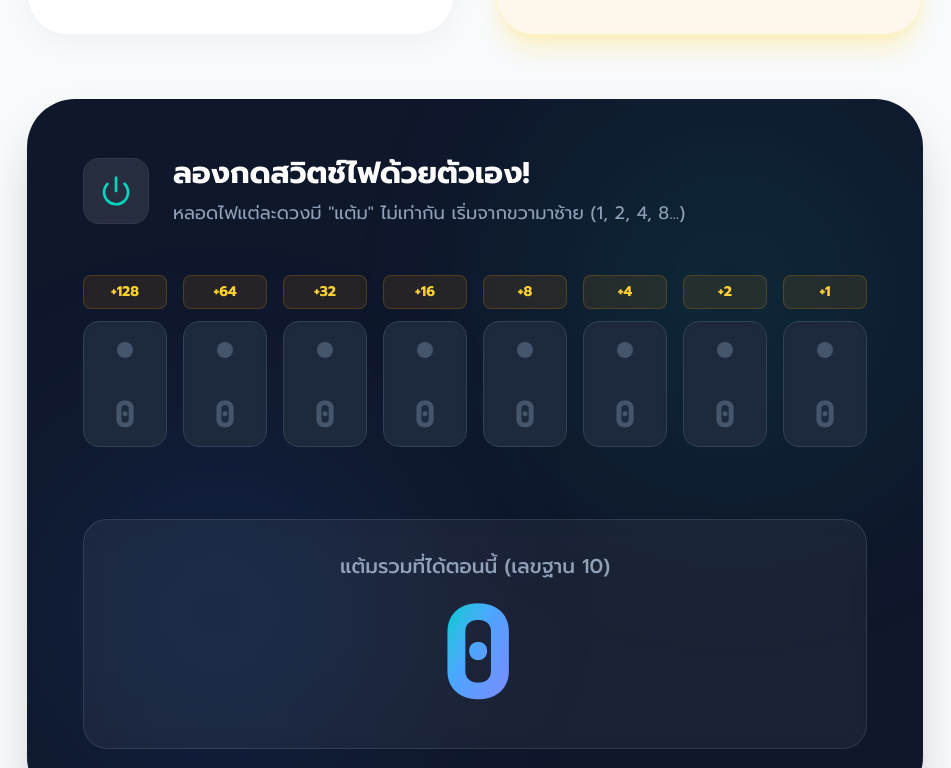
Test: Learn Page › interacts with the Bit Flipper correctly
(page scrolled)
Expected: the text "0" below "แต้มรวมที่ได้ตอนนี้ (เลขฐาน 10)" is shown, [440,567,510,736]
Click the 8th button "0".
click(825, 384)  # box [783,321,867,447]
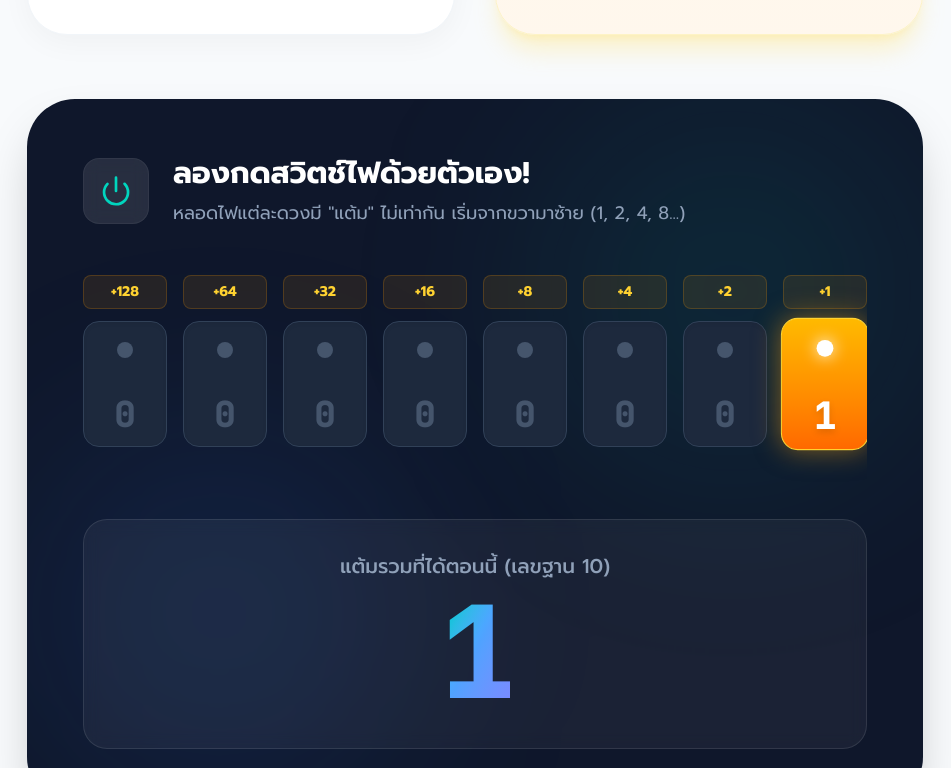
Now the text "1" below "แต้มรวมที่ได้ตอนนี้ (เลขฐาน 10)" is shown, box [440,567,510,736]
# Click the 1st button (index 0, weight 128)
Click the button "0" below "128".
click(125, 384)  # box [83,321,167,447]
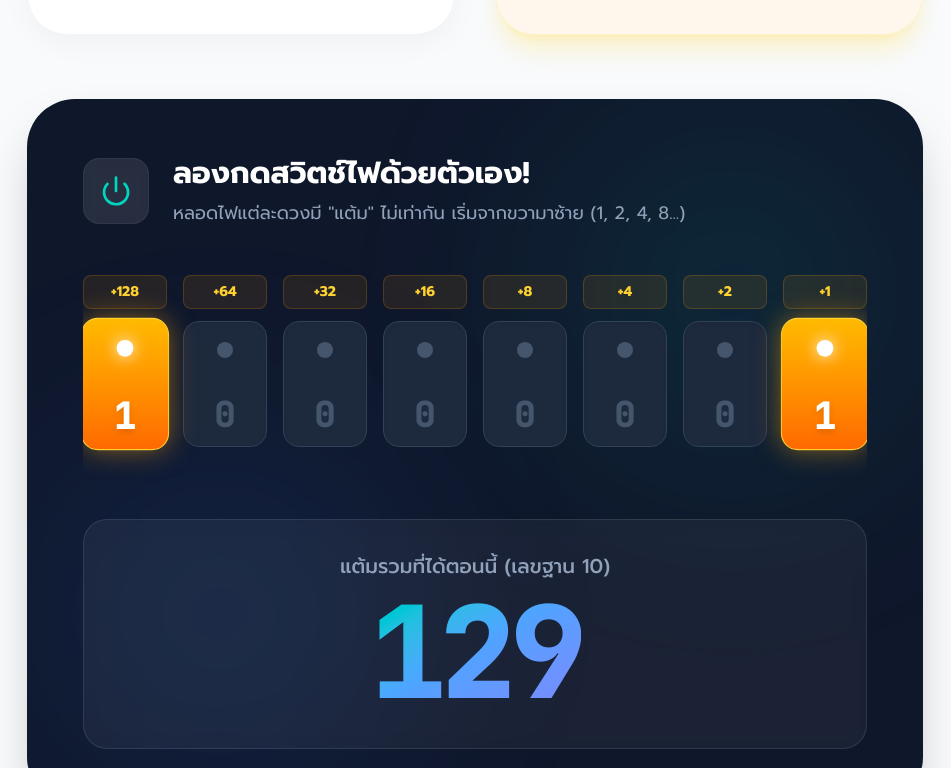
Now the text "129" is shown, box [369,588,581,716]
Click the 2nd button "1".
click(825, 384)  # box [781,318,869,450]
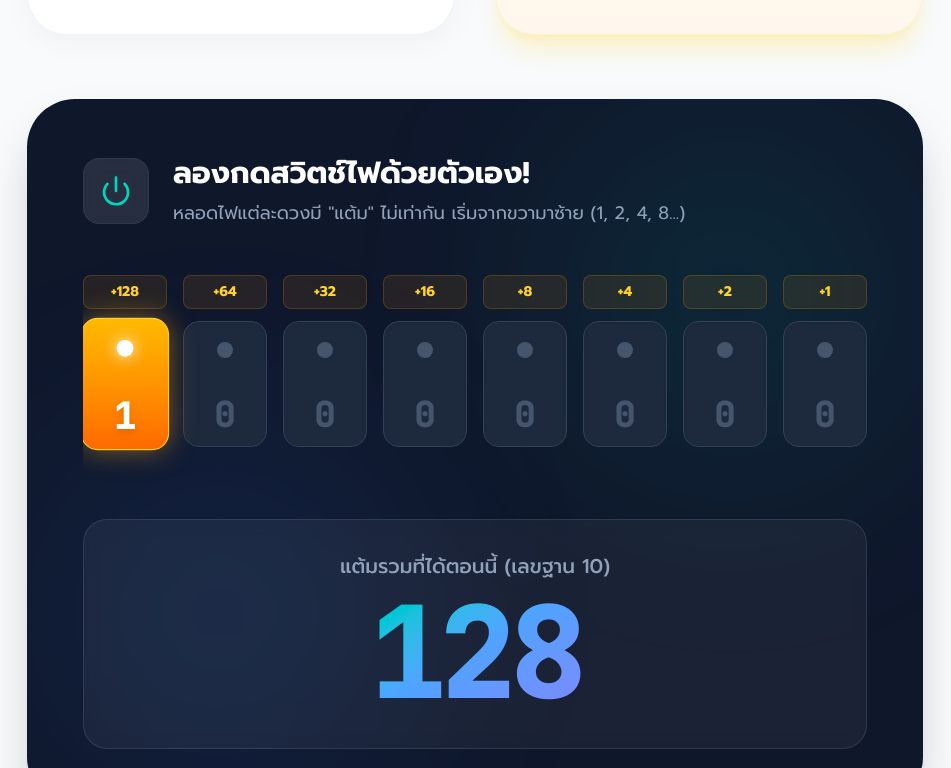
Now the text "128" is shown, box [369,588,581,716]
